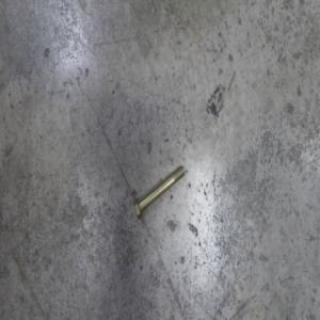Bolttrack_idkeyframe: (132, 161, 185, 222)
